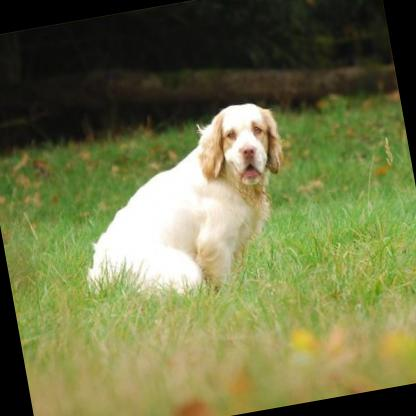clumber: (60, 96, 304, 316)
